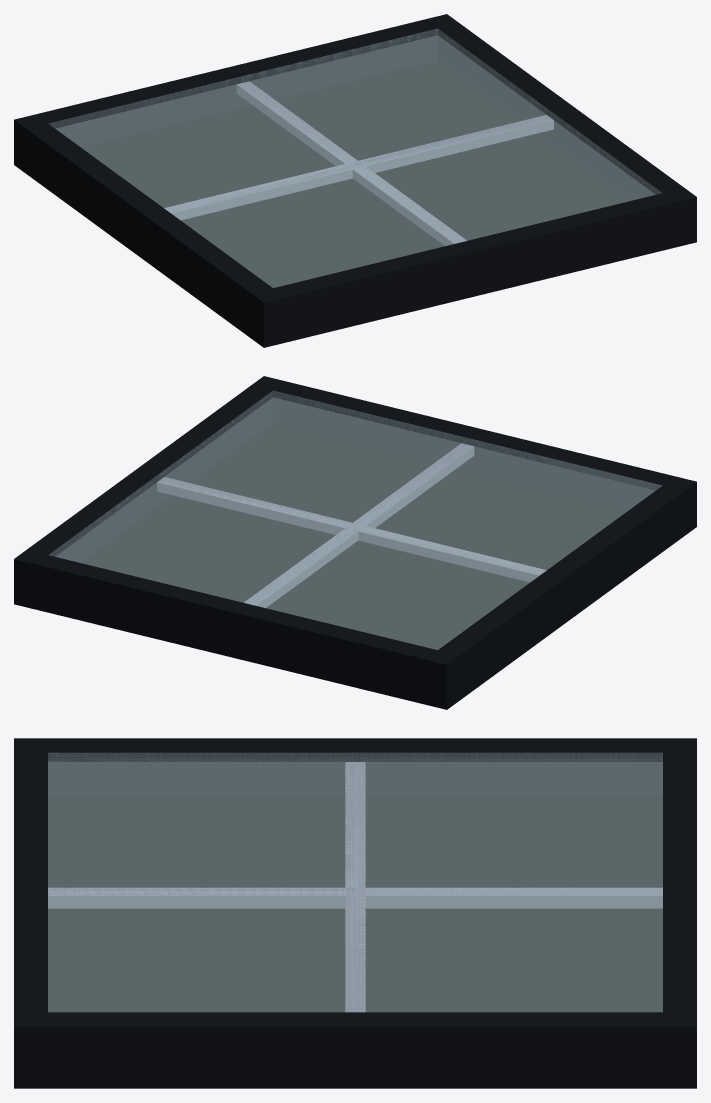
Rendered from SM_Glass_Floor_2x2.glb.
3 views of the same model, one above another, from view 1: azimuth 30°, elevation 25°; view 2: azimuth 150°, elevation 25°; view 3: azimuth 270°, elevation 25° (orthographic). The views are drawn at different scales.
Visible parts, largest first — view 1: SM_Glass_Floor_2x2-col; view 2: SM_Glass_Floor_2x2-col; view 3: SM_Glass_Floor_2x2-col.
Part boxes in pixels (x1,y1,x2,y2): SM_Glass_Floor_2x2-col: (14, 14, 696, 347); SM_Glass_Floor_2x2-col: (14, 376, 696, 709); SM_Glass_Floor_2x2-col: (14, 738, 696, 1088).
Size of the model in its own units: 2 by 0.2 by 2.
